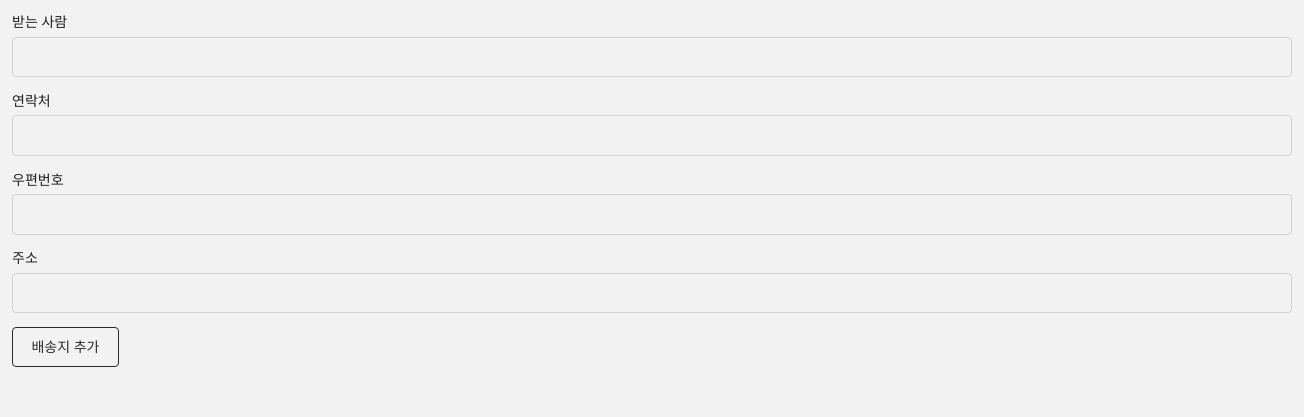
Test: AddressForm — create mode (no `address` prop) › shows the server error and does NOT refresh on failure
Type "홍길동" into the field labelled "받는 사람" at (652, 57), box left=12, top=37, right=1292, bottom=77
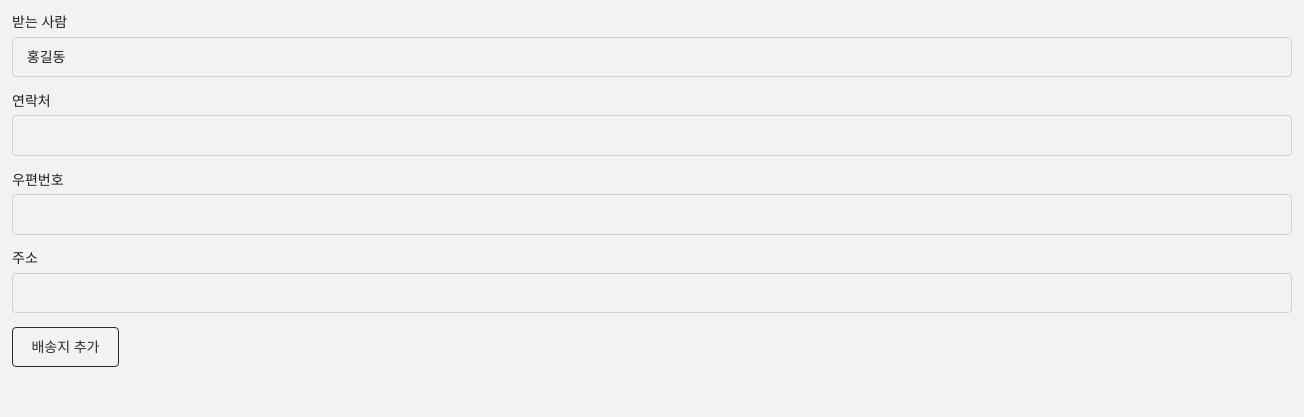
Type "010-1234-5678" into the field labelled "연락처" at (652, 136), box left=12, top=115, right=1292, bottom=156
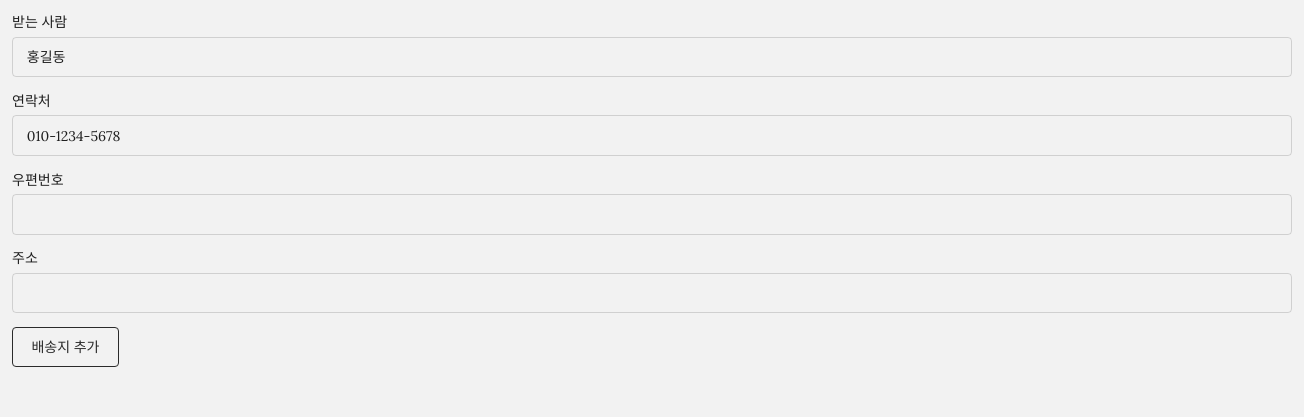
Type "06236" into the field labelled "우편번호" at (652, 214), box left=12, top=194, right=1292, bottom=234
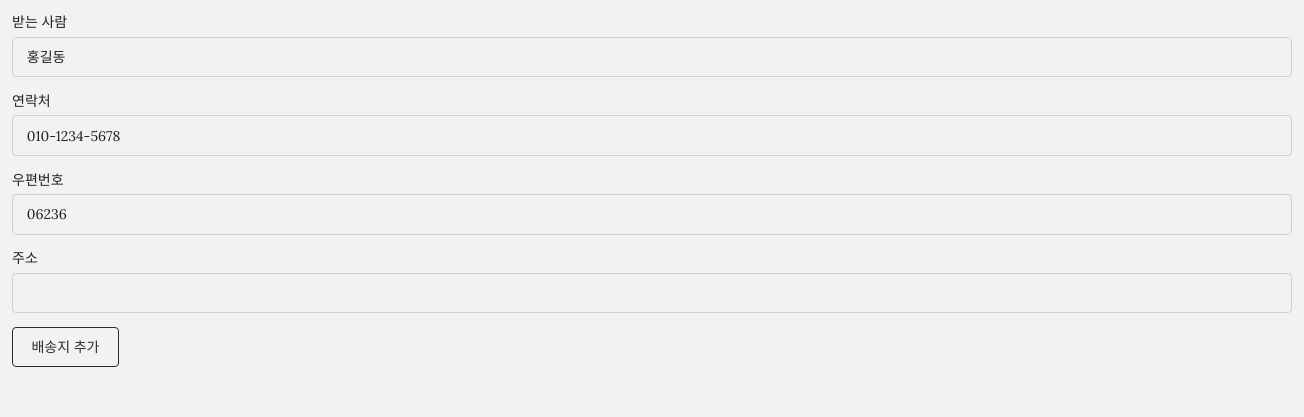
Type "서울시 강남구" into the field labelled "주소" at (652, 293), box left=12, top=273, right=1292, bottom=313
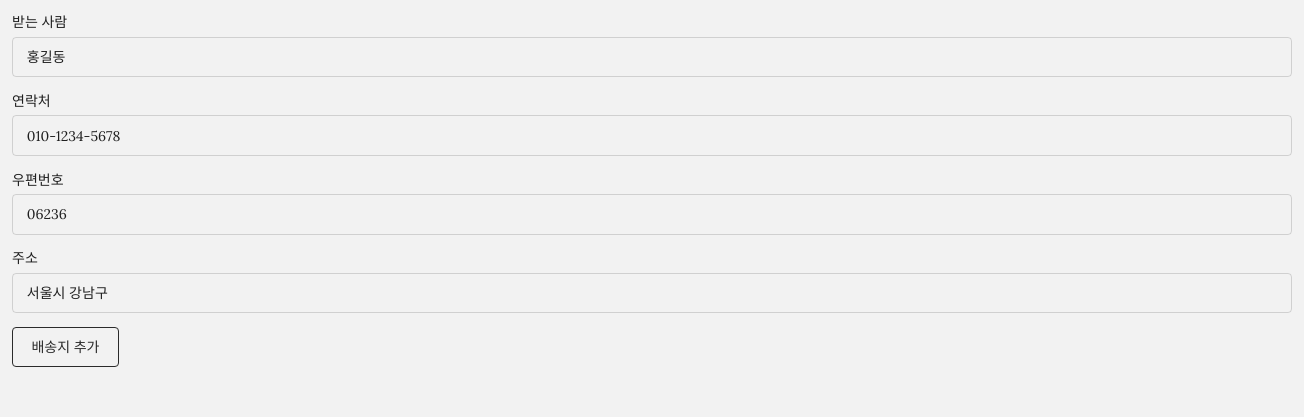
Click the button "배송지 추가" at (65, 347), box left=12, top=327, right=119, bottom=368
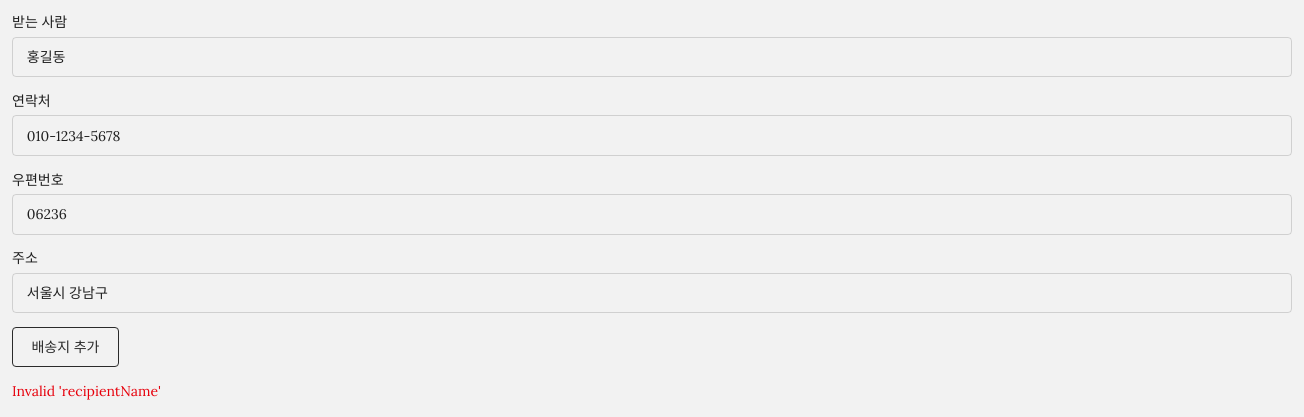
Result: the message reads "Invalid 'recipientName'" at left=12, top=382, right=161, bottom=400
